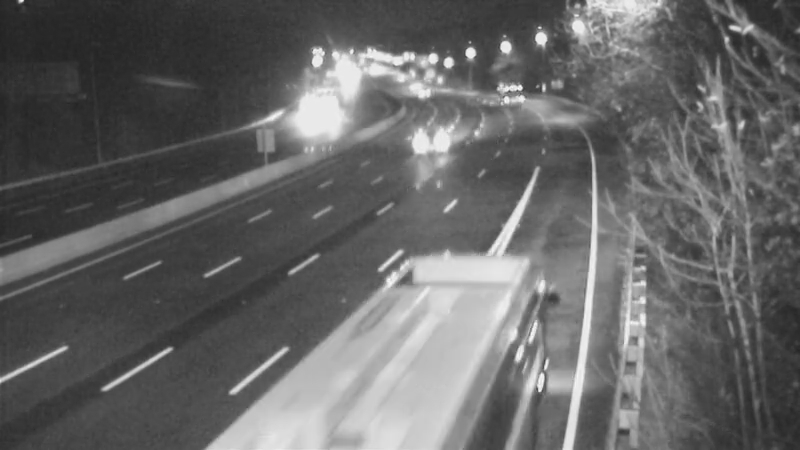vehicle: (350, 301, 460, 411), (396, 64, 446, 114), (479, 69, 529, 119), (403, 117, 453, 167), (282, 94, 332, 144), (303, 87, 353, 137)
